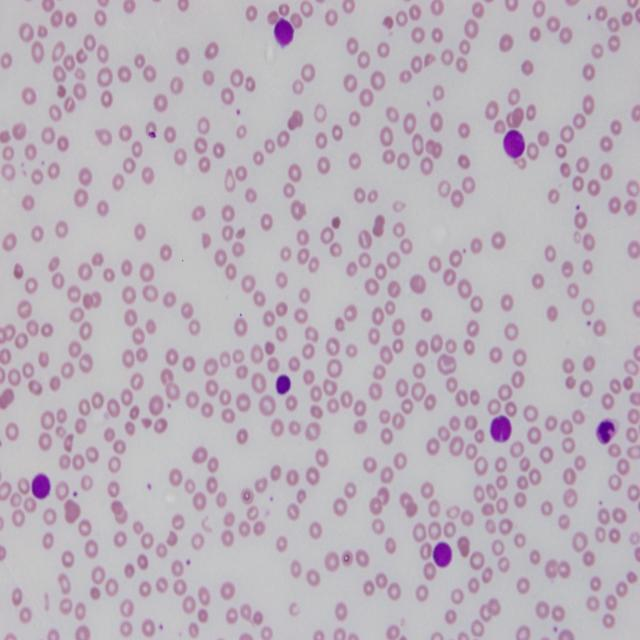cell: (504, 130, 525, 158), (274, 18, 294, 47), (490, 415, 511, 442), (432, 542, 452, 567), (31, 473, 50, 498), (276, 375, 291, 395)
